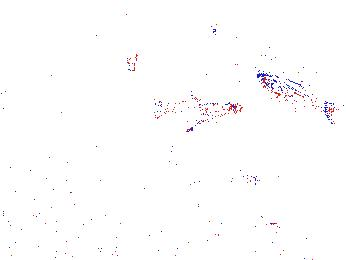X-ray fish: (125, 43, 140, 77)
red belly glassfish: (201, 162, 260, 195), (248, 211, 290, 233)
redtail glassfish: (254, 72, 346, 129), (144, 96, 244, 128), (204, 22, 277, 61), (228, 57, 324, 84)
